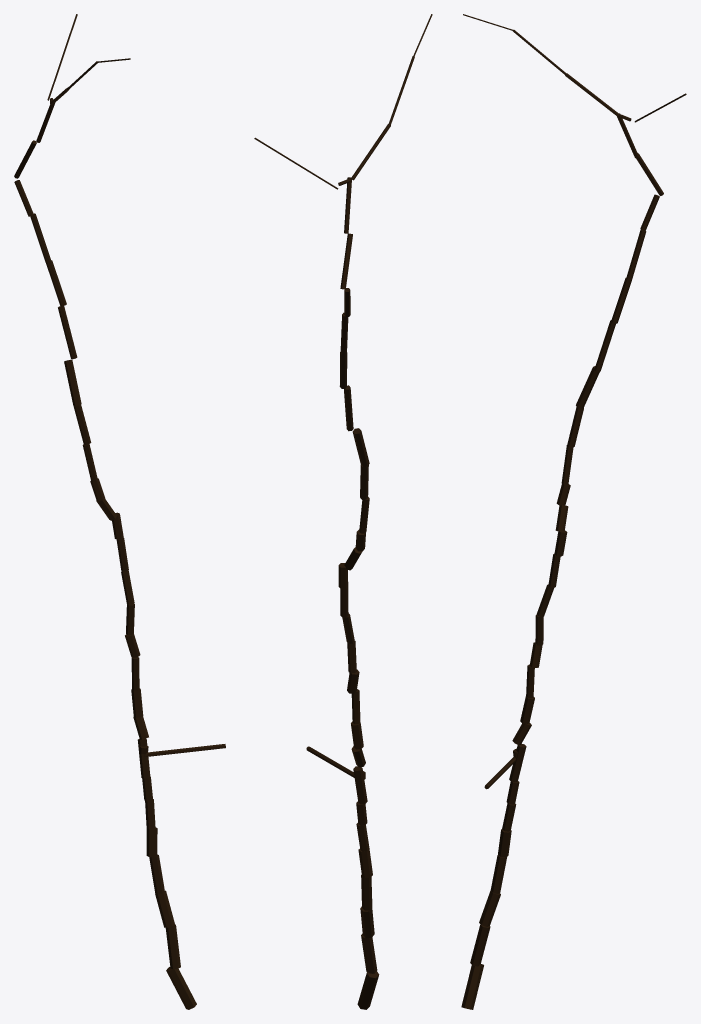
The model's file is 2022_tree_550_no_leaf.obj.
3 renders of one model, left to right at view 1: azimuth 30°, elevation 25°; view 2: azimuth 150°, elevation 25°; view 3: azimuth 270°, elevation 25°, orthographic. The views are drawn at different scales.
Visible parts, largest first — view 1: TrunkAndBranches; view 2: TrunkAndBranches; view 3: TrunkAndBranches.
Part boxes in pixels (box(x1,y1,x2,y2)): TrunkAndBranches: box(14, 14, 225, 1009); TrunkAndBranches: box(254, 14, 432, 1009); TrunkAndBranches: box(461, 14, 686, 1009).
Size of the model in its own units: 0.779 by 5.72 by 1.21.
